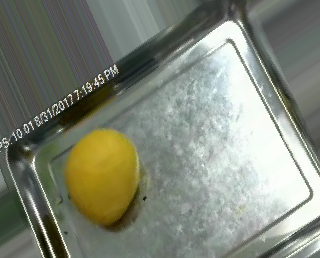Mango: (69, 127, 143, 224)
